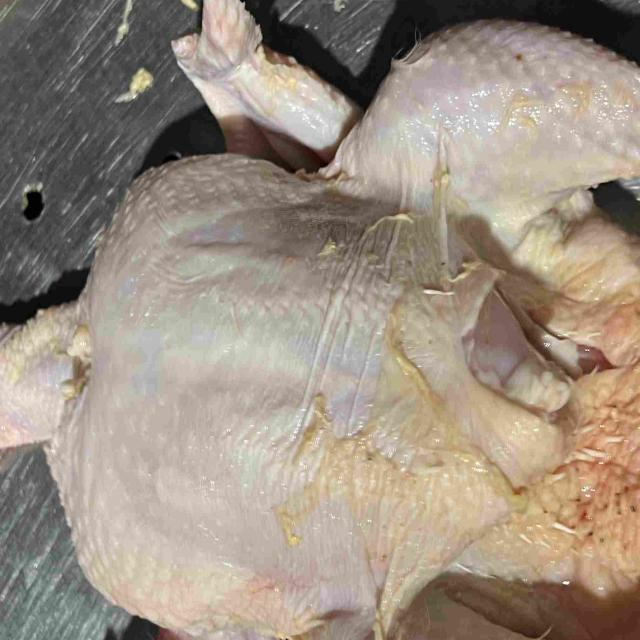breast: (55, 163, 569, 630)
leg: (312, 33, 640, 262)
neck: (0, 292, 91, 474)
wing: (174, 0, 356, 179)
